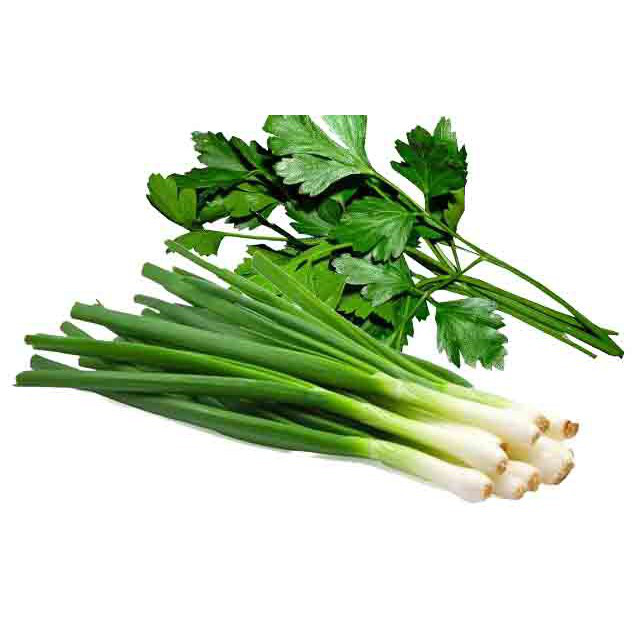Seledri: (24, 81, 627, 543)
